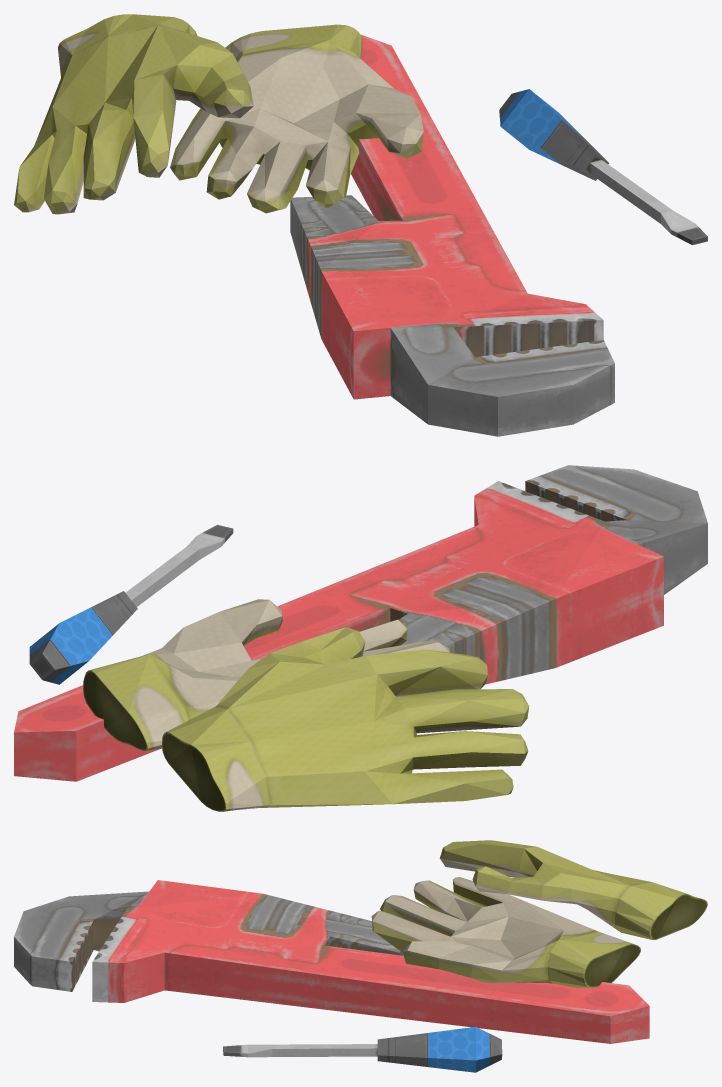
Rendered from WarehouseManager_19.obj.
The picture shows the model from 3 angles, top to bottom: view 1: azimuth 30°, elevation 25°; view 2: azimuth 150°, elevation 25°; view 3: azimuth 270°, elevation 25°; orthographic projection. The views are drawn at different scales.
Size of the model in its own units: 0.4915 by 0.1245 by 0.7673.
Materials: 3 (3 with a texture image).
